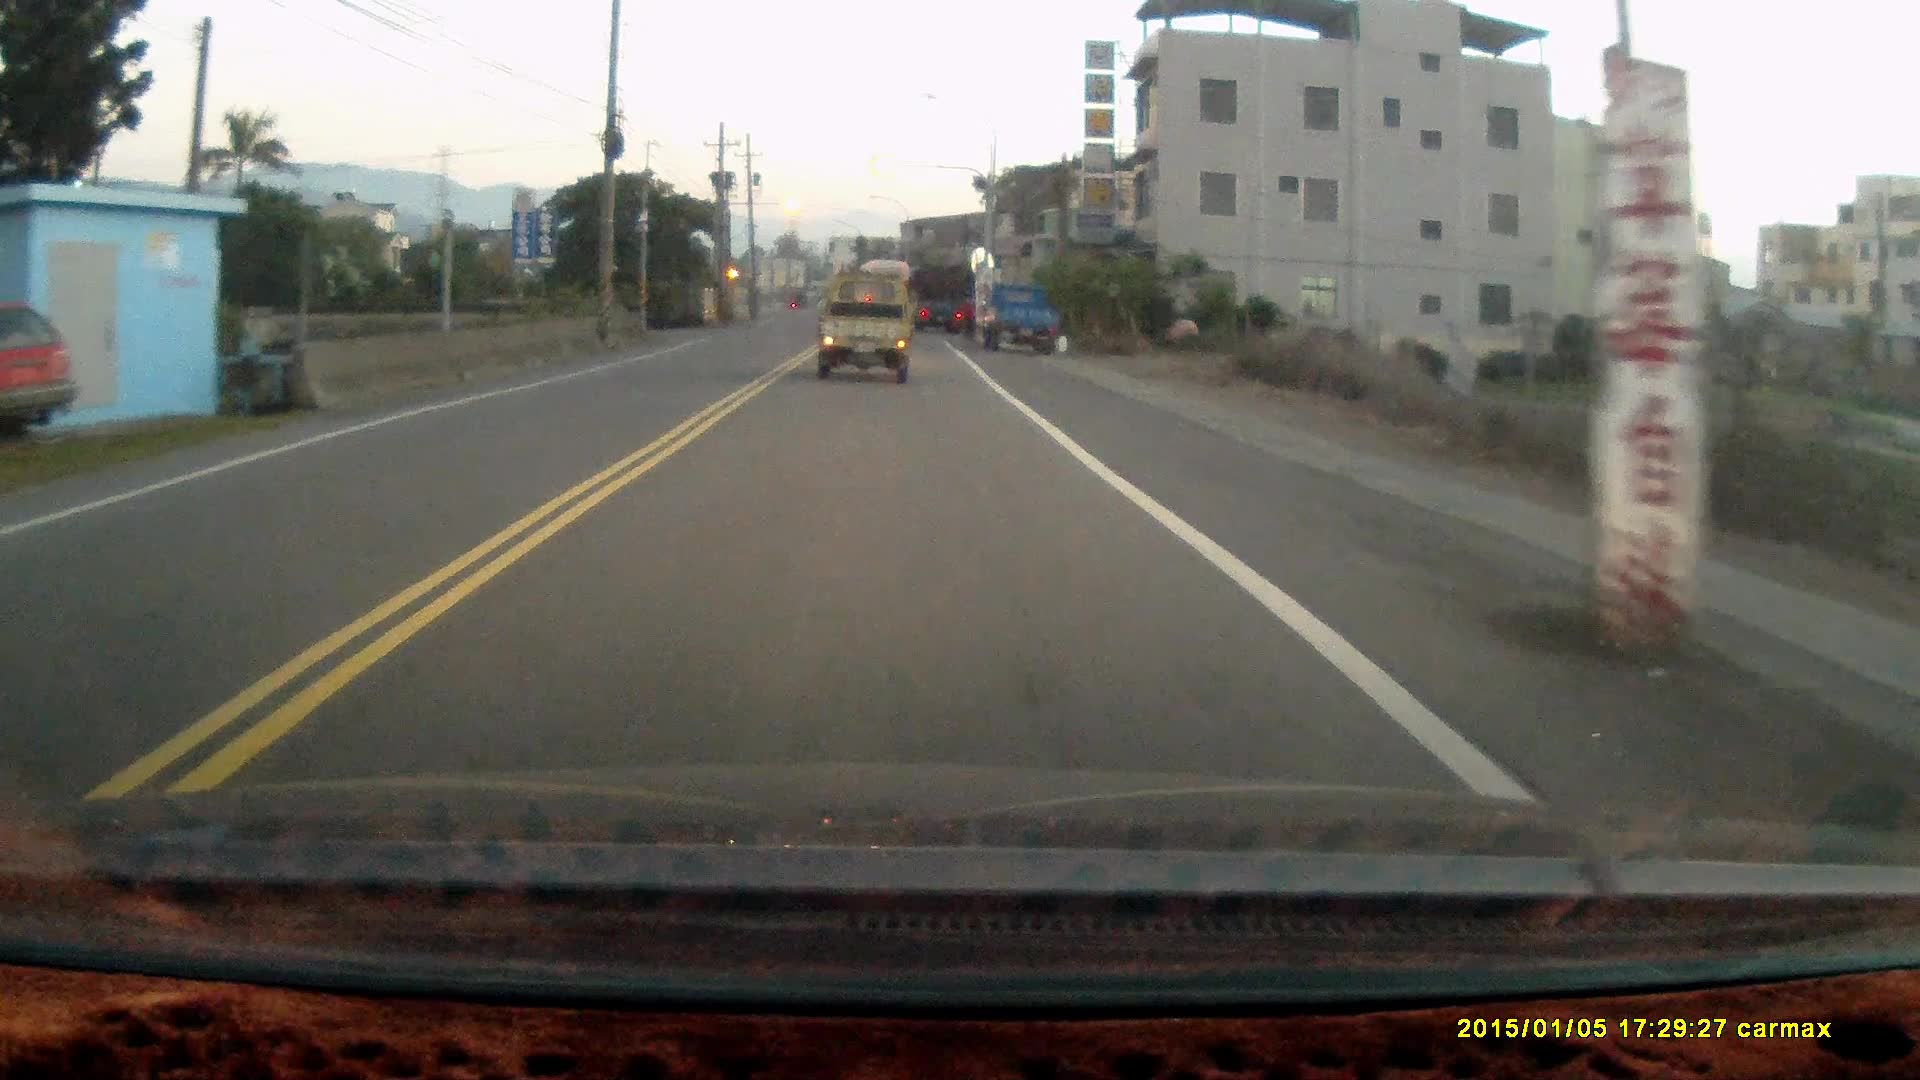vehicle: (814, 276, 916, 382), (1, 301, 79, 435), (975, 280, 1069, 359), (911, 265, 978, 336)
